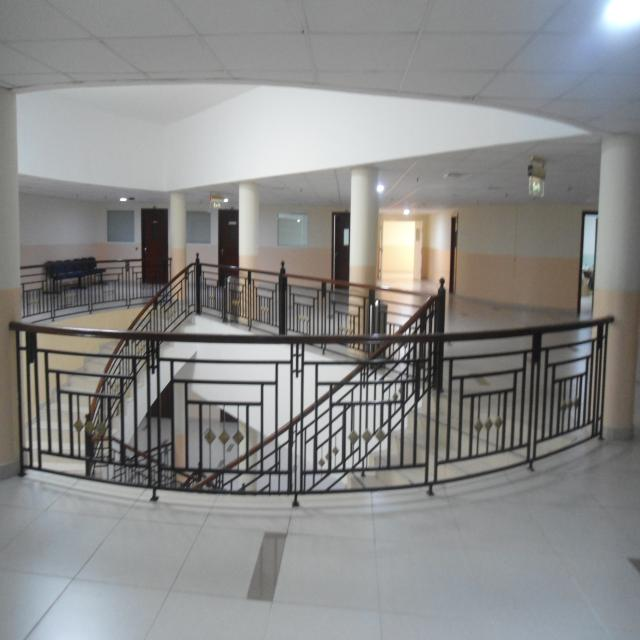bench: (30, 252, 116, 296)
door: (376, 214, 434, 298), (584, 208, 605, 348), (210, 208, 250, 268), (136, 213, 168, 286), (330, 219, 353, 285)
exitLight: (518, 155, 552, 214)
pillar: (601, 132, 640, 434), (0, 83, 30, 473), (346, 169, 379, 358), (236, 175, 260, 326), (166, 188, 185, 305)
railing: (9, 314, 604, 509), (172, 277, 462, 555), (74, 266, 208, 494), (190, 252, 432, 358), (58, 422, 234, 492), (21, 260, 200, 318)
window: (276, 214, 316, 255), (104, 200, 140, 244), (185, 209, 212, 249)
